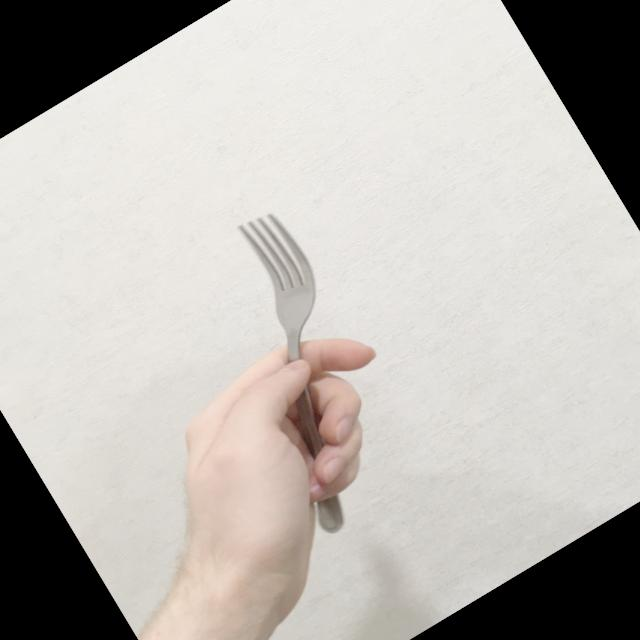fork: (163, 204, 437, 540)
